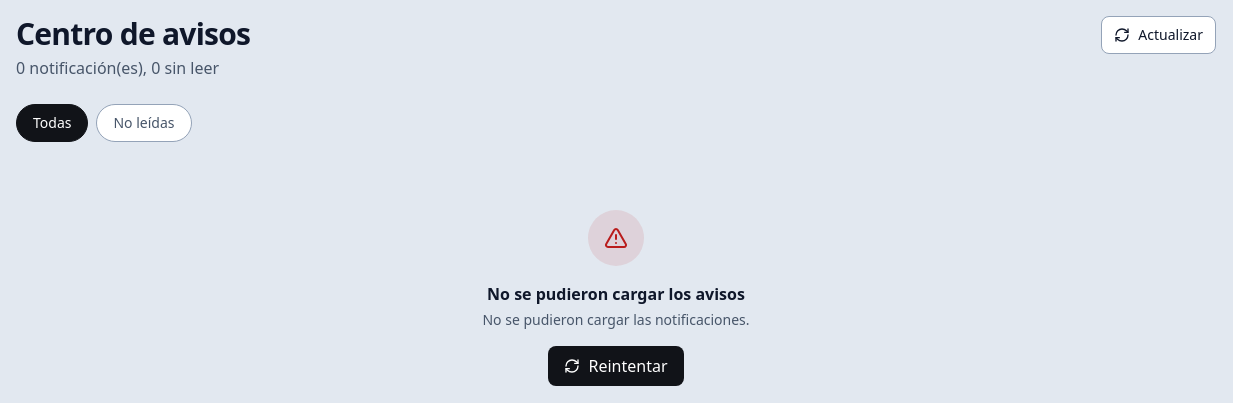
NotificationsPage: estados de carga, error y lista vacía › muestra el error con reintento cuando falla la carga
Expected: the text "No se pudieron cargar los avisos" is shown, x1=487 y1=282 x2=745 y2=306
Click the button "Reintentar" at x=616, y=366, box x1=548 y1=346 x2=684 y2=386
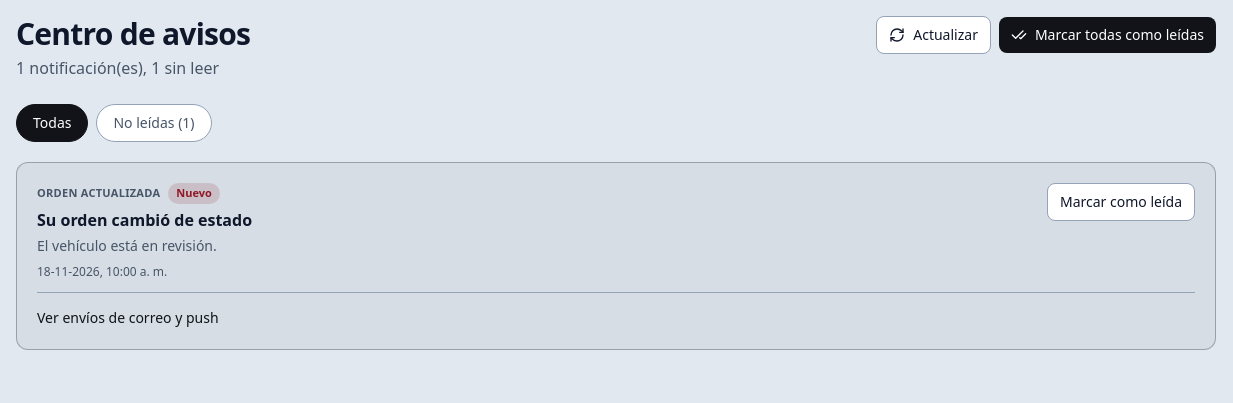
Expected: the heading "Su orden cambió de estado" is shown, x1=37 y1=208 x2=252 y2=230
